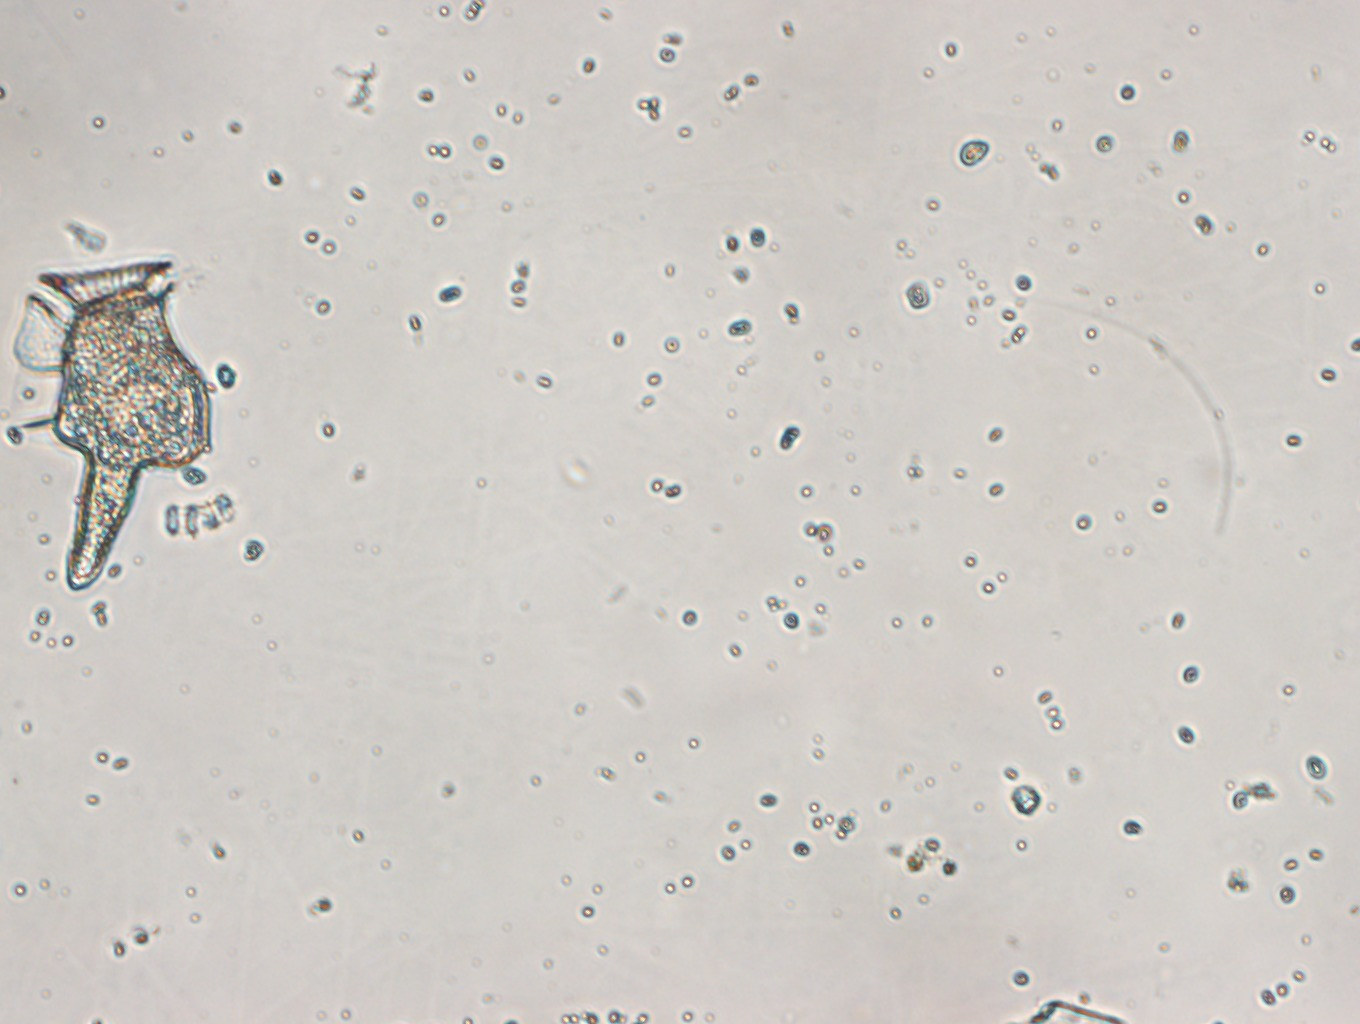dinophysis caudata: (8, 248, 242, 603)
